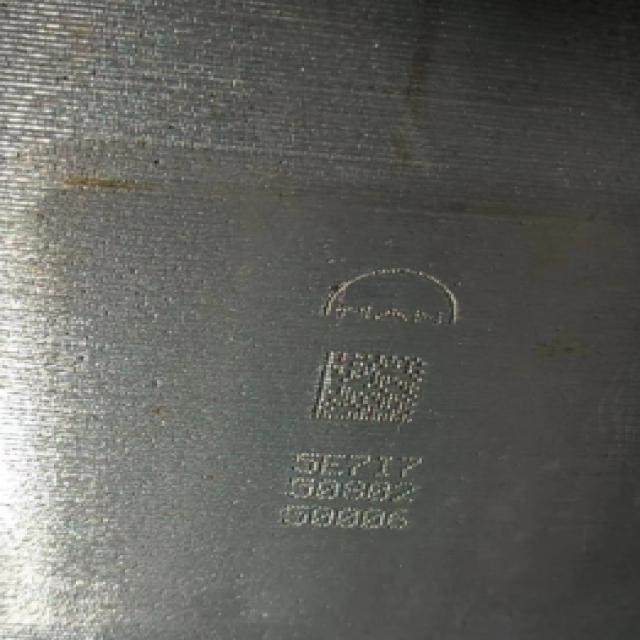dmc: (309, 351, 429, 423)
